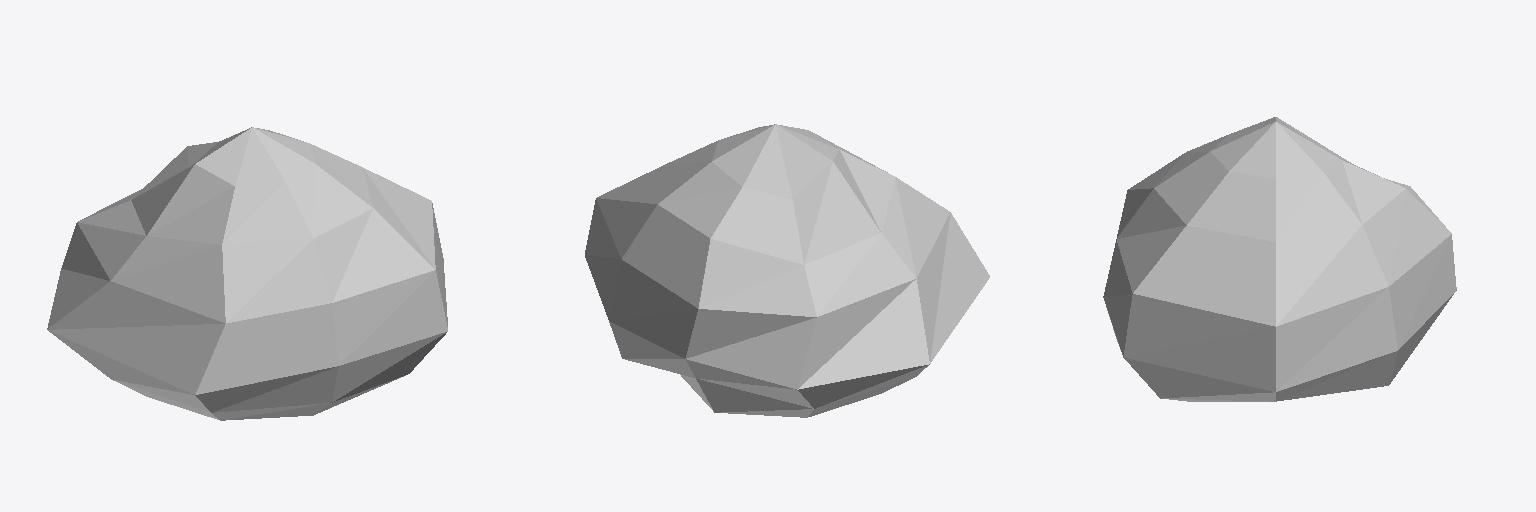
The model's file is Rock1.obj.
The picture shows the model from 3 angles: view 1: azimuth 30°, elevation 25°; view 2: azimuth 150°, elevation 25°; view 3: azimuth 270°, elevation 25°; orthographic projection.
Parts seen in each view (by area): view 1: pSphere1; view 2: pSphere1; view 3: pSphere1.
Part boxes in pixels (left/top/right/bottom): pSphere1: left=47, top=127, right=447, bottom=420; pSphere1: left=585, top=124, right=989, bottom=417; pSphere1: left=1103, top=117, right=1456, bottom=401.
Bounding box in the file's own units: 24.79 × 16.82 × 20.46.